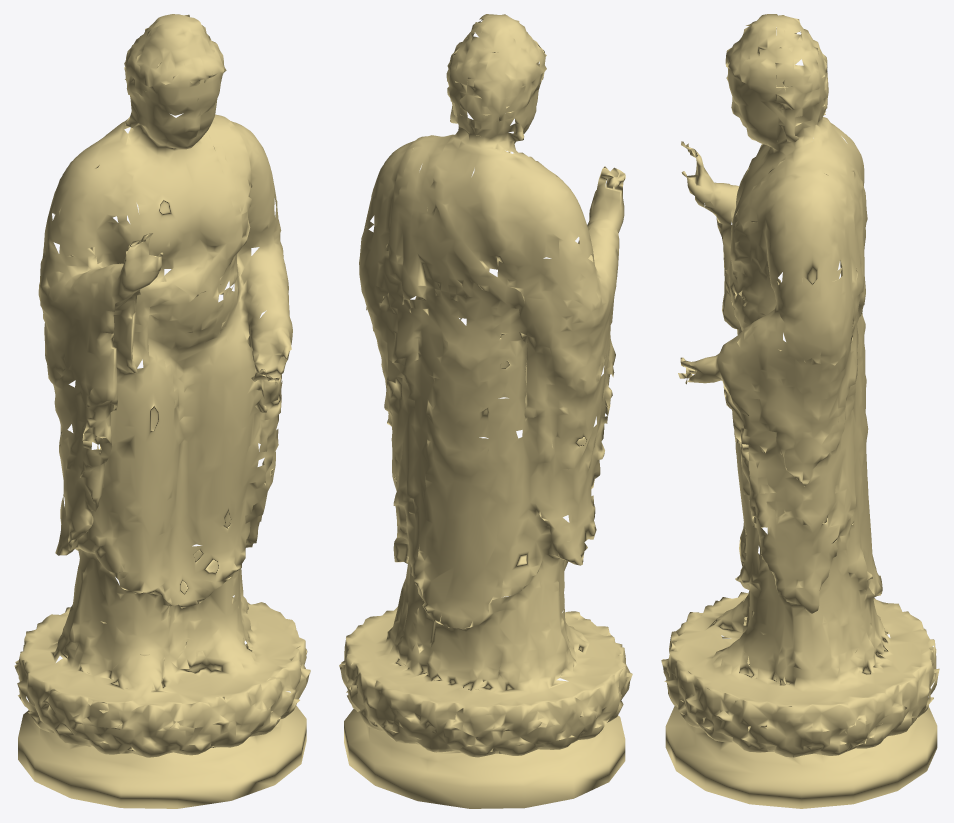
The model's file is standing-buddha.glb.
3 views of the same model, side by side, from view 1: azimuth 30°, elevation 25°; view 2: azimuth 150°, elevation 25°; view 3: azimuth 270°, elevation 25° (orthographic). The views are drawn at different scales.
Bounding box in the file's own units: 32.47 × 87.6 × 30.31.
